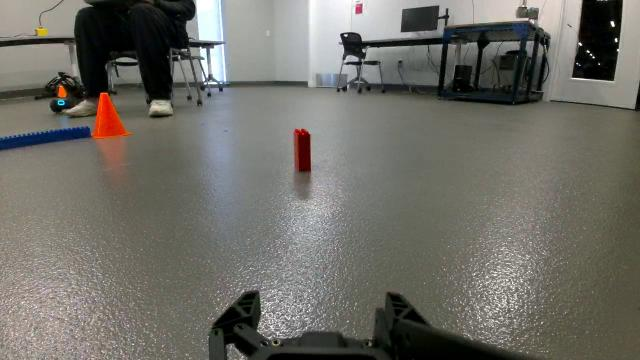lego: (272, 108, 327, 188)
